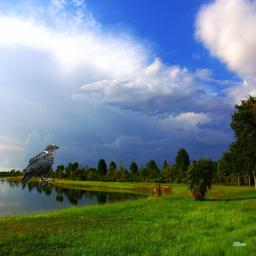Crow: (18, 144, 59, 186)
